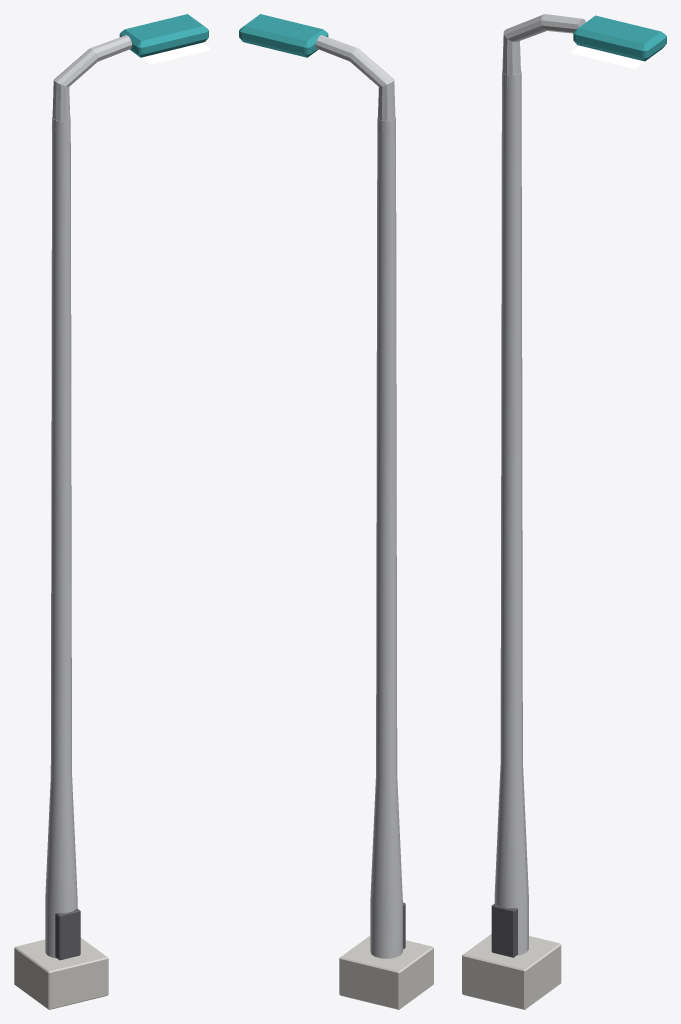
File: motorway-services-and-truck-park-car-park-lamp-column-0470c8ad__35958.glb
3 views of the same model, side by side, from view 1: azimuth 30°, elevation 25°; view 2: azimuth 150°, elevation 25°; view 3: azimuth 330°, elevation 25° (orthographic). The views are drawn at different scales.
Parts seen in each view (by area): view 1: car-park-lamp-column; view 2: car-park-lamp-column; view 3: car-park-lamp-column.
Part boxes in pixels (x1=…): car-park-lamp-column: x1=14, y1=14, x2=210, y2=1009; car-park-lamp-column: x1=239, y1=14, x2=433, y2=1009; car-park-lamp-column: x1=462, y1=14, x2=666, y2=1009.
Size of the model in its own units: 1.56 by 8.28 by 0.56.
